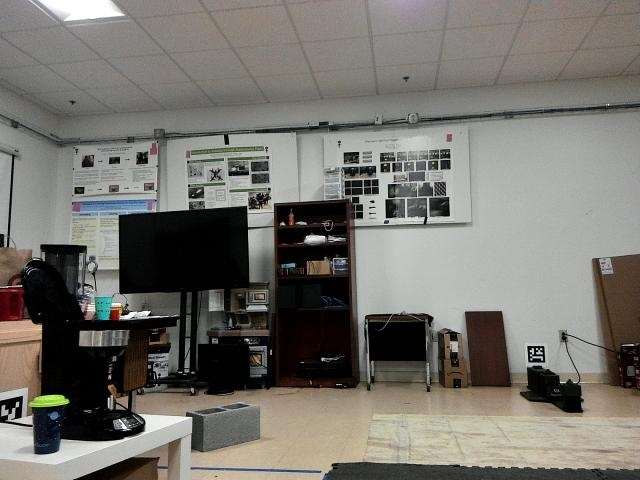coffee_cup: (94, 293, 112, 323)
useless_cup: (28, 392, 68, 454)
